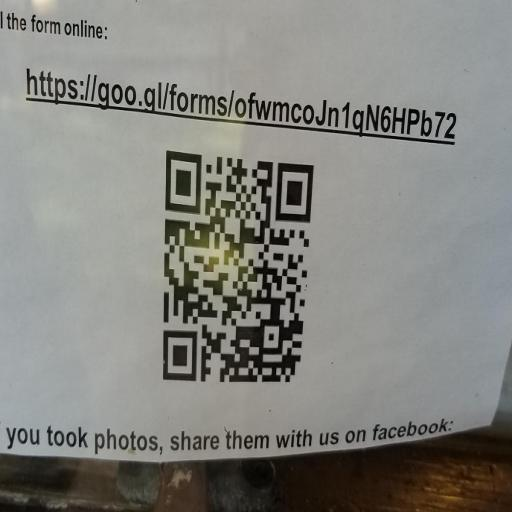QR_CODE: (151, 131, 321, 405)
